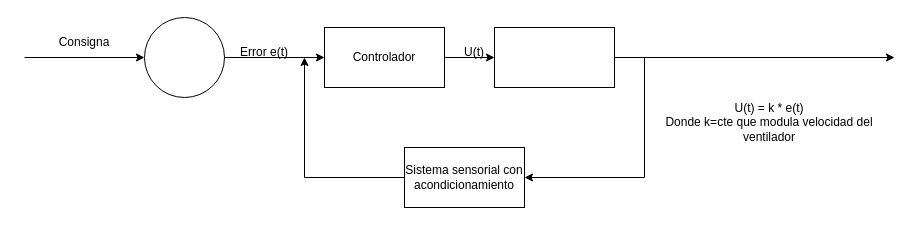
Some shapes in this 920 by 225 pixel diagram are drawn without their labels. The box of each missing label's shape, as (x1, y1, x2, y2) in pixels:
+/- Punto de suma: (144, 16, 224, 98)
Planta: (494, 26, 614, 88)
